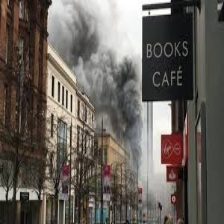smoke: (55, 7, 148, 150)
